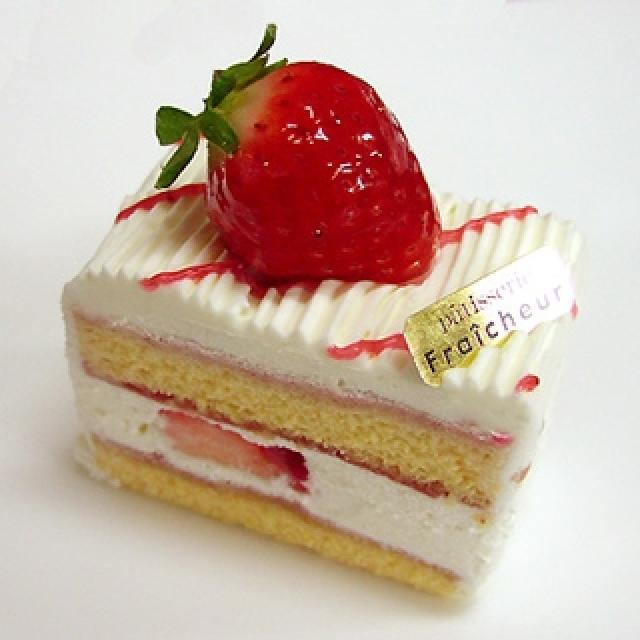蛋糕甜品: (32, 20, 596, 608)
